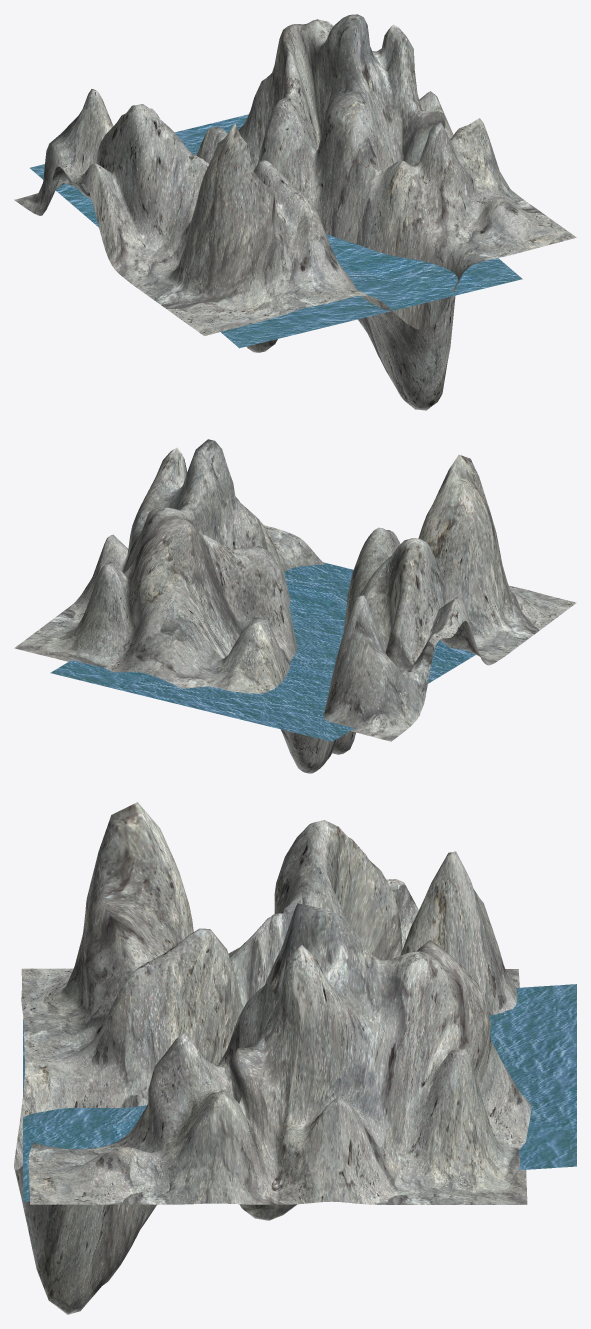
Rendered from bckground test.obj.
3 renders of one model, top to bottom at view 1: azimuth 30°, elevation 25°; view 2: azimuth 150°, elevation 25°; view 3: azimuth 270°, elevation 25°, orthographic. The views are drawn at different scales.
Parts seen in each view (by area): view 1: polySurface1 pPlane3, pPlane3 polySurface2; view 2: polySurface1 pPlane3, pPlane3 polySurface2; view 3: polySurface1 pPlane3, pPlane3 polySurface2.
Boxes of the visible parts, left/top/right/bottom form: polySurface1 pPlane3: left=14, top=14, right=576, bottom=410; pPlane3 polySurface2: left=30, top=114, right=522, bottom=348; polySurface1 pPlane3: left=14, top=439, right=576, bottom=773; pPlane3 polySurface2: left=50, top=562, right=475, bottom=741; polySurface1 pPlane3: left=14, top=802, right=530, bottom=1314; pPlane3 polySurface2: left=23, top=984, right=576, bottom=1201.
Size of the model in its own units: 183 by 149 by 178.
2 materials, 2 textured.
